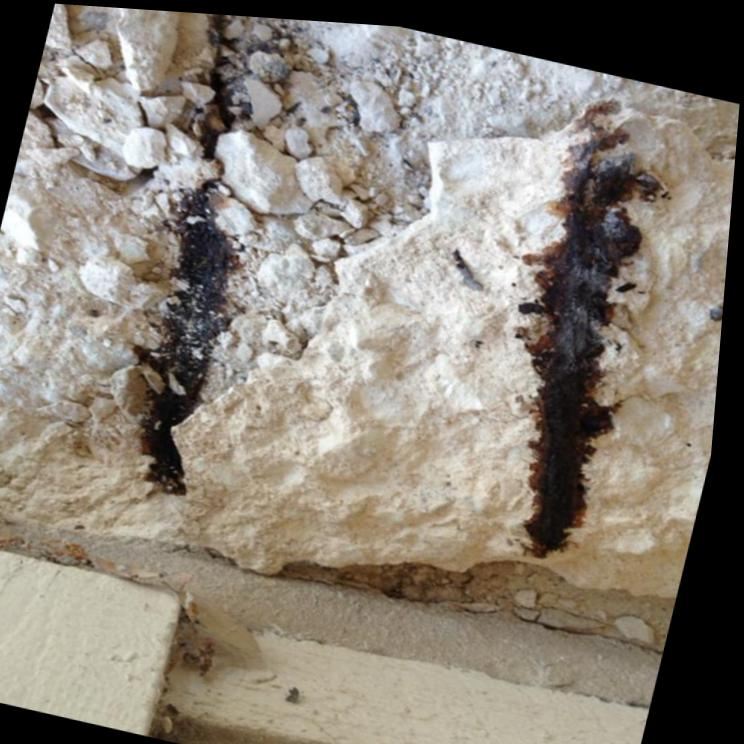damage: (0, 3, 741, 642)
